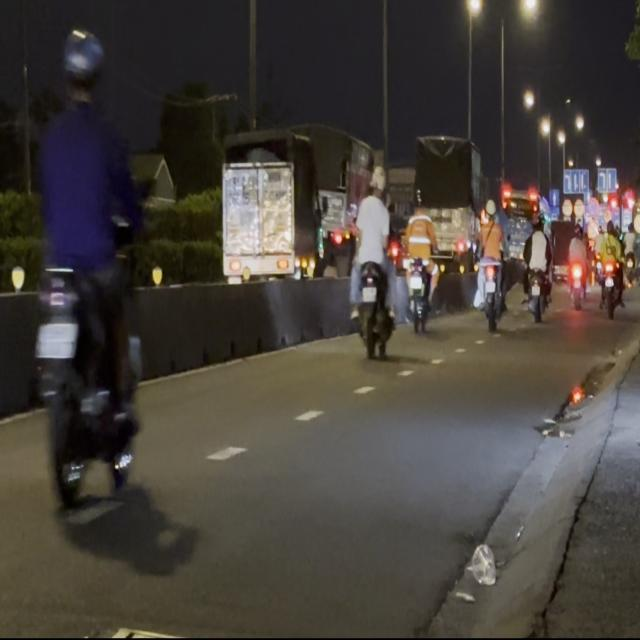helmet: (59, 28, 104, 106)
licenseplate: (27, 24, 146, 519)
nohelmet: (35, 322, 77, 357)
